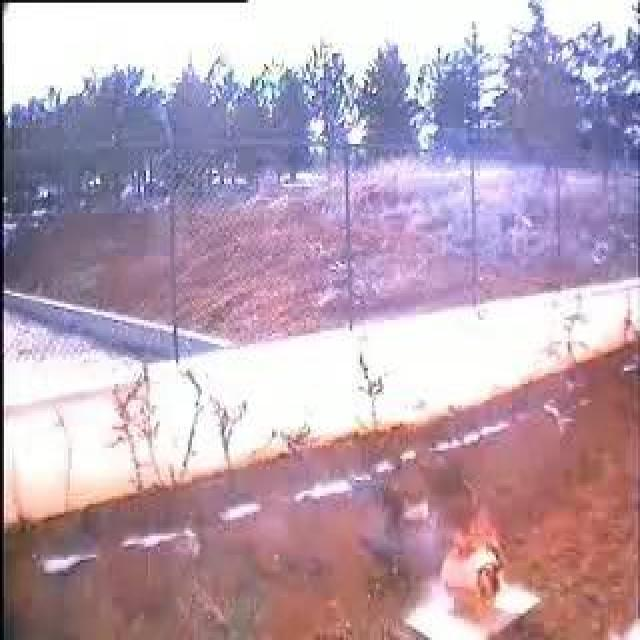Fire: (436, 524, 502, 604)
